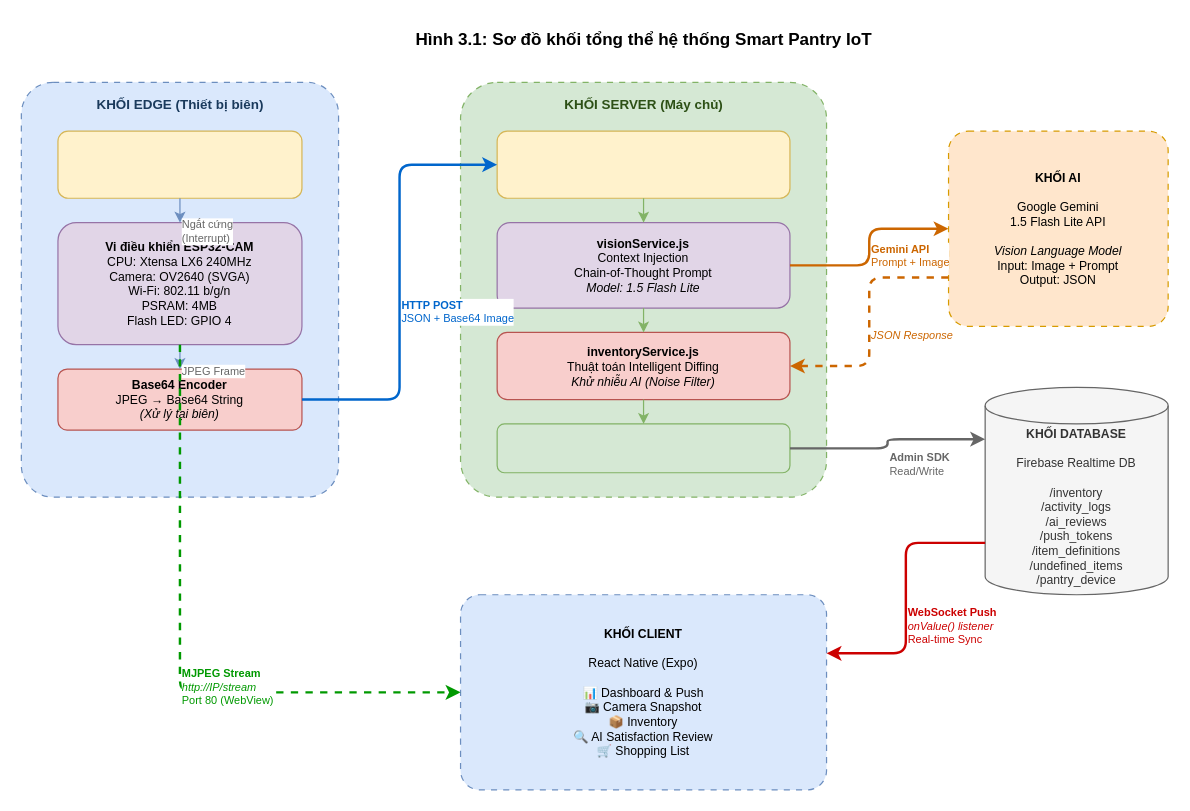
This 1190x811 diagram has some shape labels left out. Each missing label, with the centre of its shape:
"Cảm biến PIR HC-SR501 GPIO 13 (ext0 wake)" goes at (179,164).
"Firebase Admin SDK Ghi/Đọc Database" goes at (643,448).
"pantryRouter.js POST /api/pantry/capture Session Cleanup" goes at (643,164).
